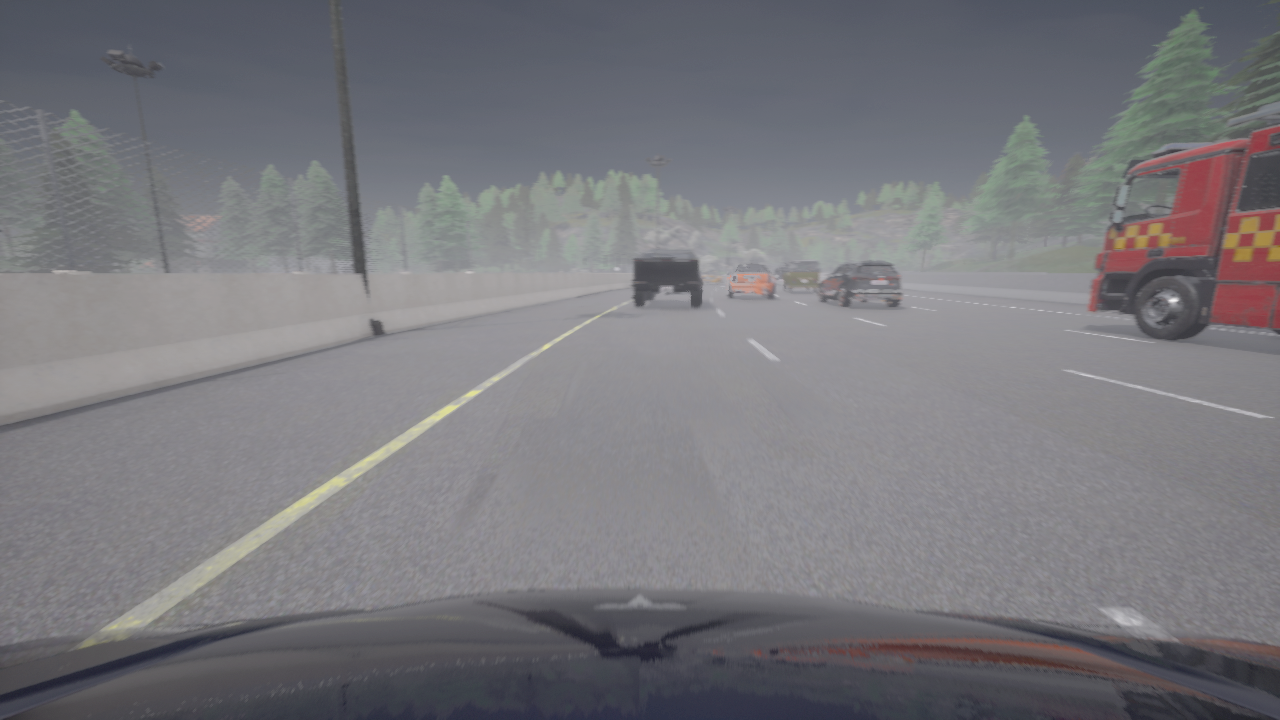cyclist: (0, 588, 1279, 719), (1087, 102, 1279, 339), (631, 249, 703, 308), (817, 260, 901, 307), (725, 260, 774, 298), (781, 260, 819, 292), (701, 269, 721, 284), (772, 266, 784, 284)
